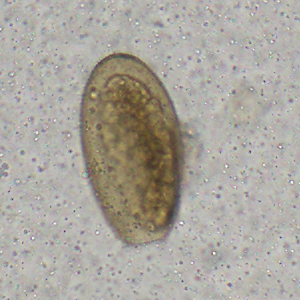Fasciola_hepatica_egg: (79, 51, 182, 247)
